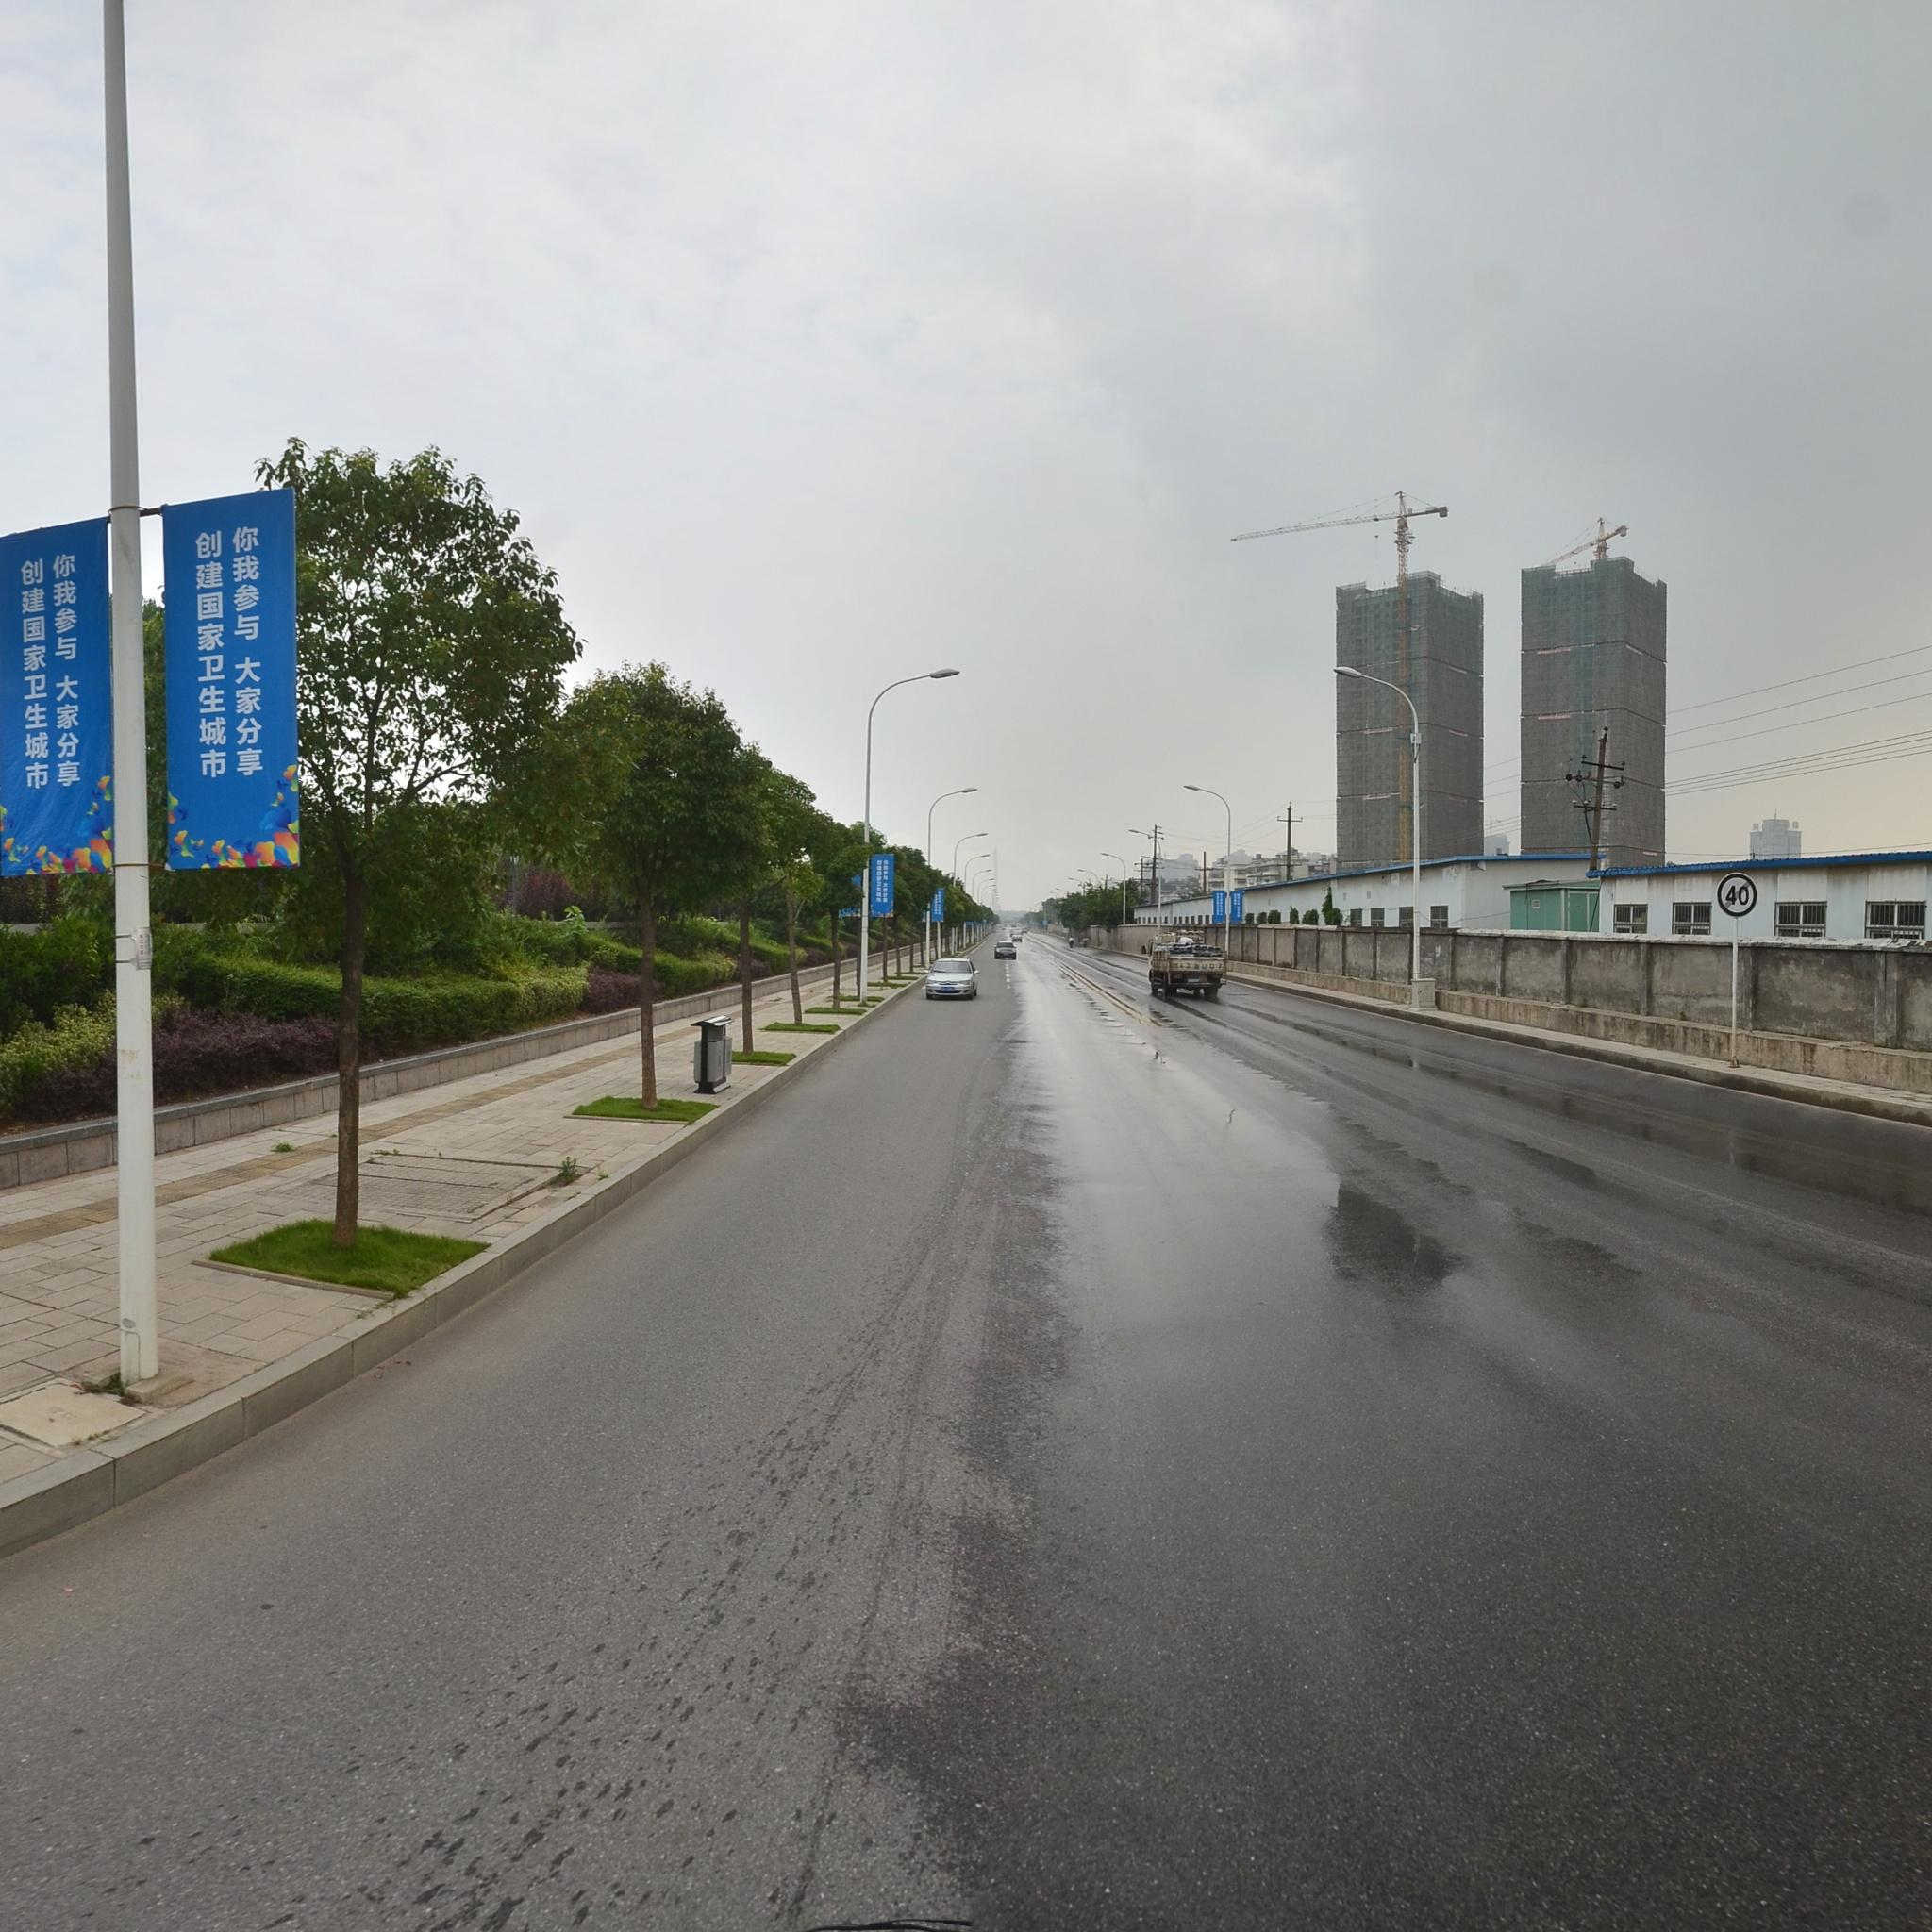pr40: (1721, 874, 1757, 922)
